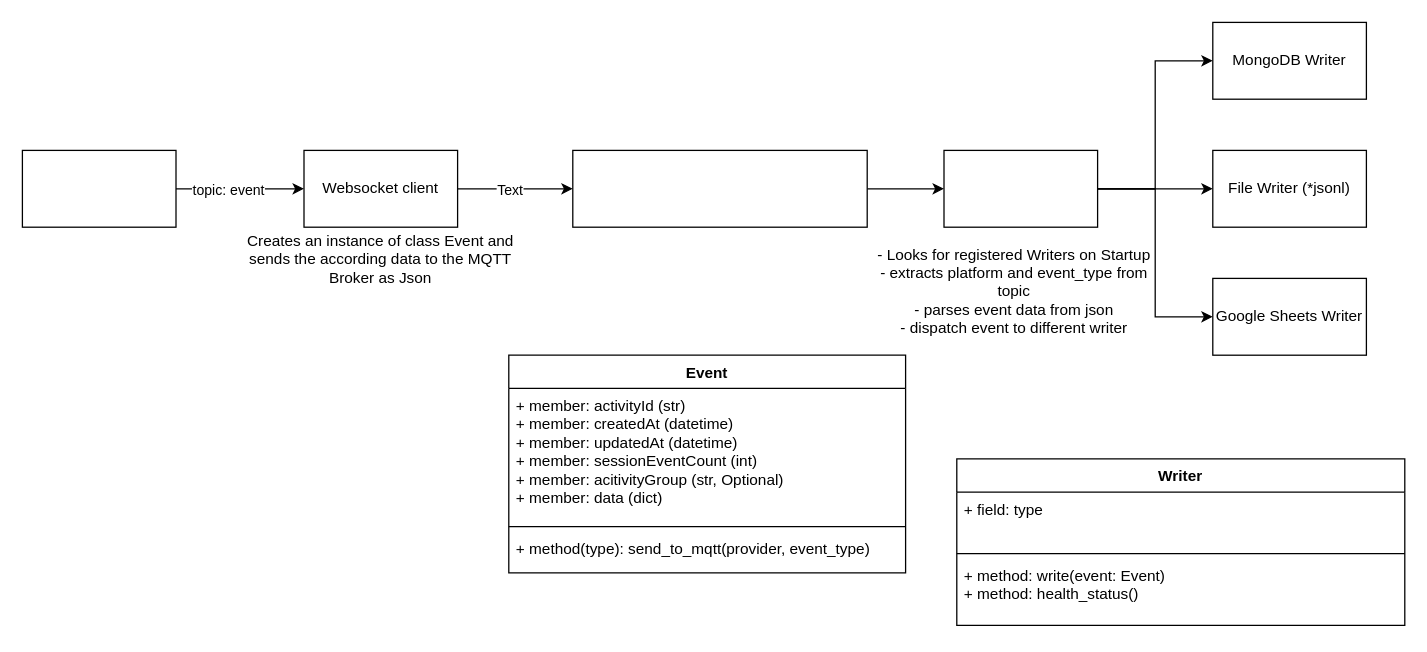
The diagram is 1427 pixels wide and 652 high, and some of its shapes have lost their labels. The shapes that lost their labels are listed below. From the top down, each one's centre as x and y in pixels, then its label:
the point at 98,188: SE API (websocket)
the point at 719,188: MQTT Broker /event_data/{platform}/{event_type}
the point at 1020,188: Dispatcher
